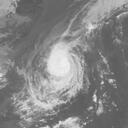cyclone: (33, 41, 86, 96)
